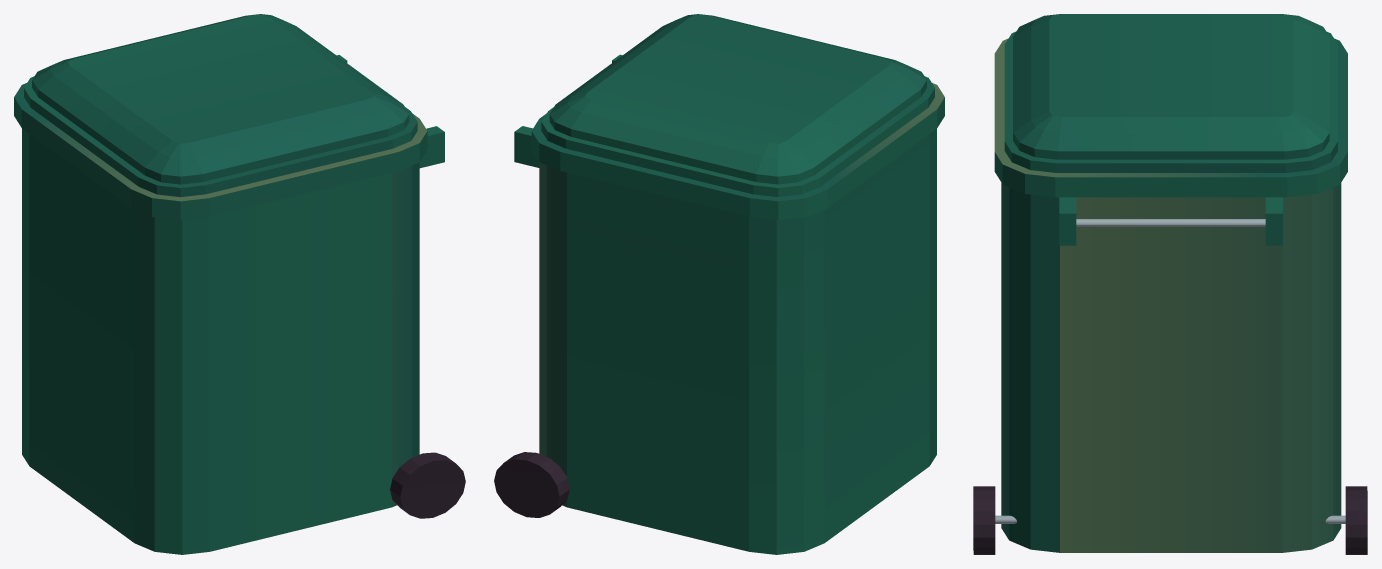
The model's file is GarbageBin.fbx.
3 renders of one model, left to right at view 1: azimuth 30°, elevation 25°; view 2: azimuth 150°, elevation 25°; view 3: azimuth 270°, elevation 25°, orthographic. The views are drawn at different scales.
Parts seen in each view (by area): view 1: Cube; view 2: Cube; view 3: Cube.
Boxes of the visible parts, box(x1,y1,x2,y2) form: Cube: box(14, 14, 465, 554); Cube: box(494, 14, 944, 554); Cube: box(973, 14, 1367, 554).
Size of the model in its own units: 227 by 275 by 232.
